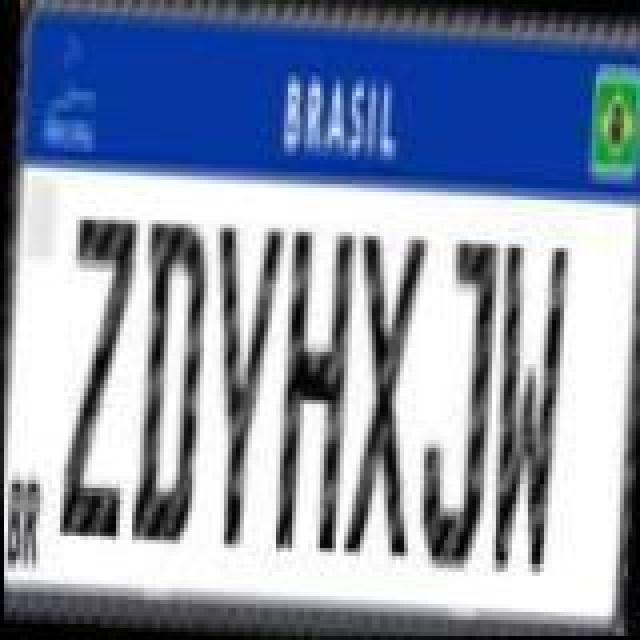D: (126, 216, 210, 548)
H: (268, 224, 356, 556)
J: (412, 234, 500, 574)
W: (480, 238, 568, 578)
X: (340, 234, 428, 566)
Y: (196, 222, 284, 554)
Z: (54, 214, 138, 546)
